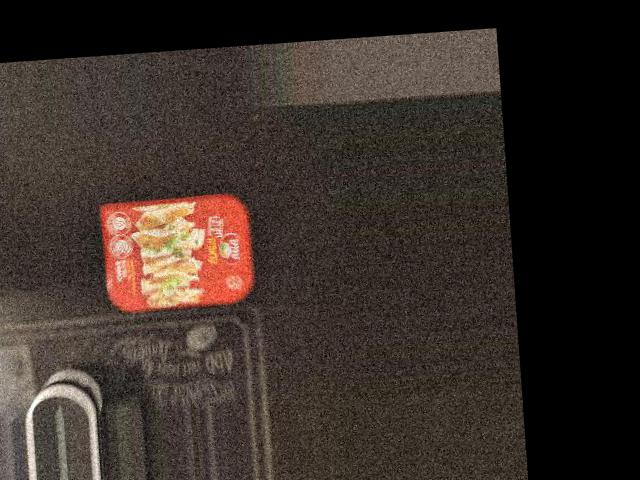cheese: (90, 186, 257, 318)
